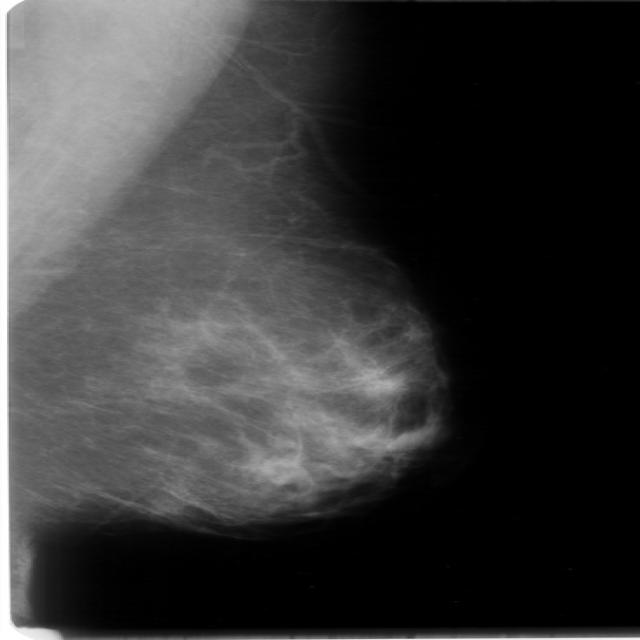tumour: (253, 456, 305, 484)
